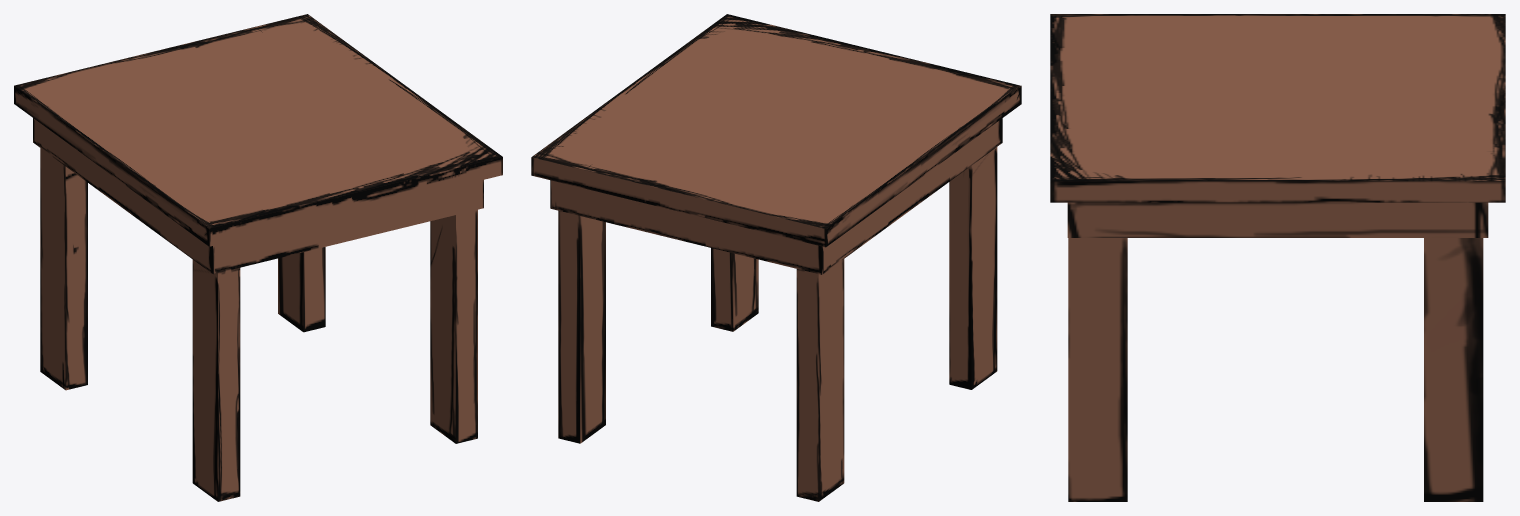
Rendered from table_kitchen.fbx.
3 views of the same model, side by side, from view 1: azimuth 30°, elevation 25°; view 2: azimuth 150°, elevation 25°; view 3: azimuth 270°, elevation 25° (orthographic). The views are drawn at different scales.
Parts seen in each view (by area): view 1: стол.001; view 2: стол.001; view 3: стол.001.
Part boxes in pixels (box(x1,y1,x2,y2)): стол.001: box(14, 14, 502, 501); стол.001: box(531, 14, 1021, 501); стол.001: box(1050, 14, 1505, 501).
Bounding box in the file's own units: 1.41 × 1.3 × 1.62.
Materials: 1 (1 with a texture image).
